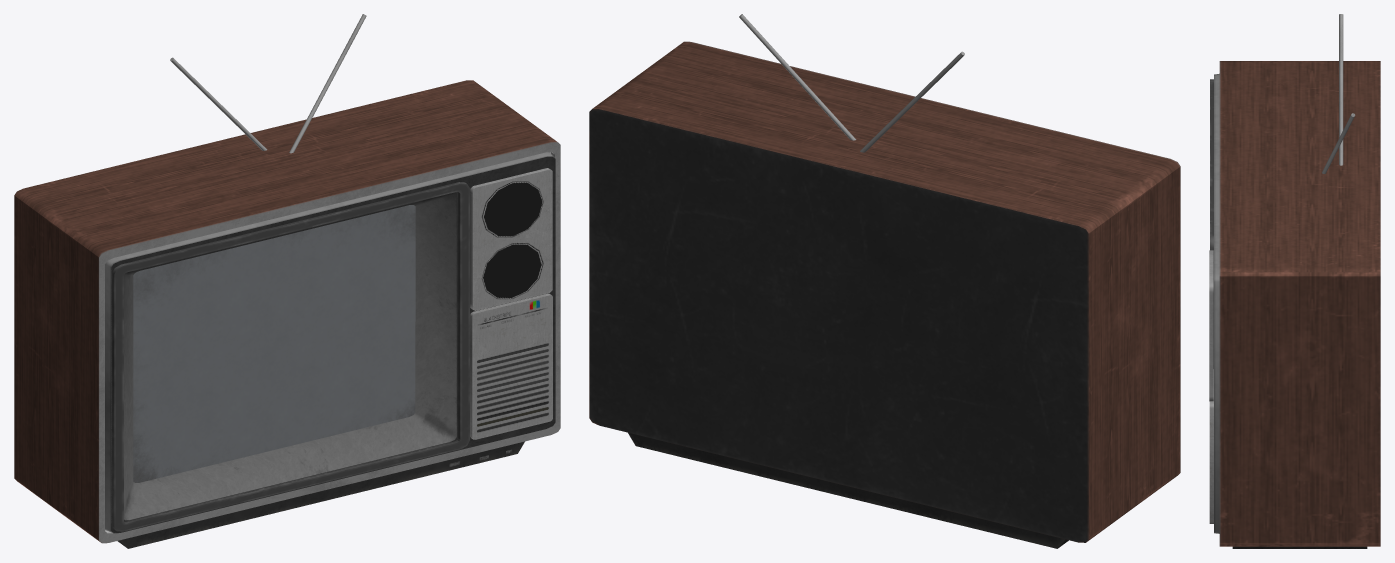
3 renders of one model, left to right at view 1: azimuth 30°, elevation 25°; view 2: azimuth 150°, elevation 25°; view 3: azimuth 270°, elevation 25°, orthographic. The views are drawn at different scales.
Visible parts, largest first — view 1: TV; view 2: TV; view 3: TV.
Part boxes in pixels (box(x1,y1,x2,y2)): TV: box(14, 14, 560, 548); TV: box(589, 14, 1180, 548); TV: box(1209, 14, 1380, 548).
Bounding box in the file's own units: 424 × 372 × 143.
